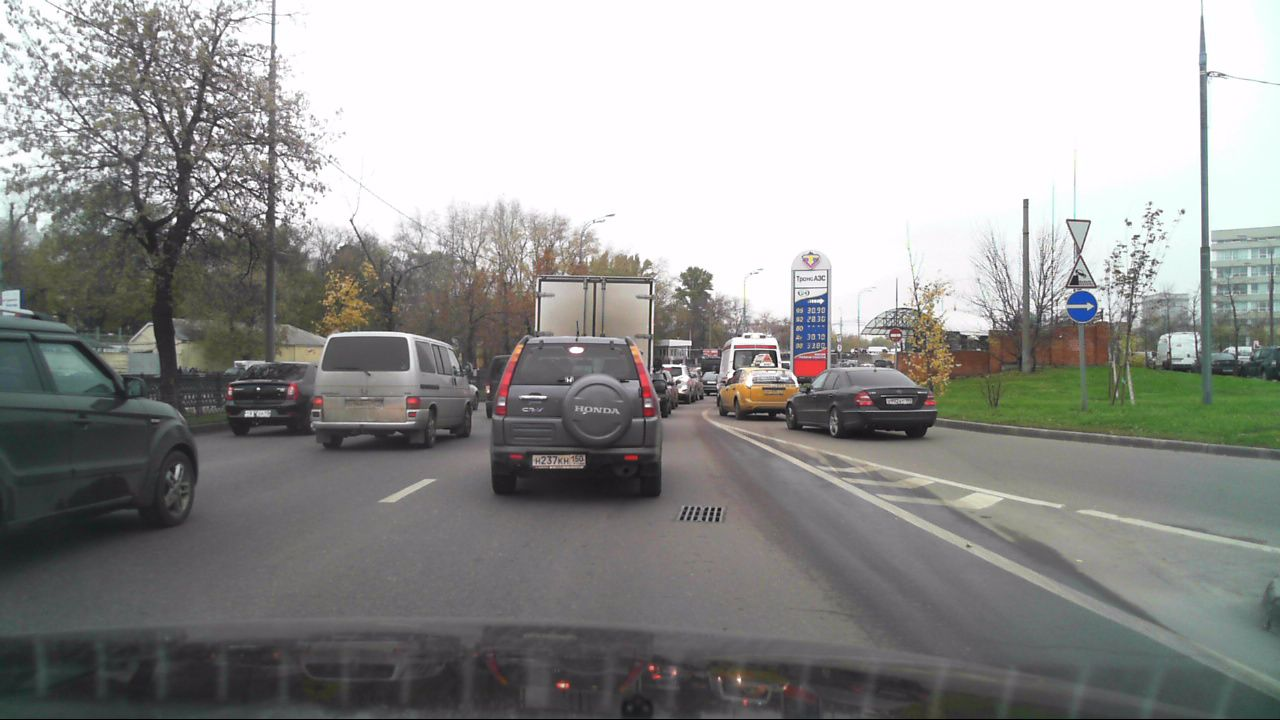Turn Right: (1066, 291, 1098, 323)
